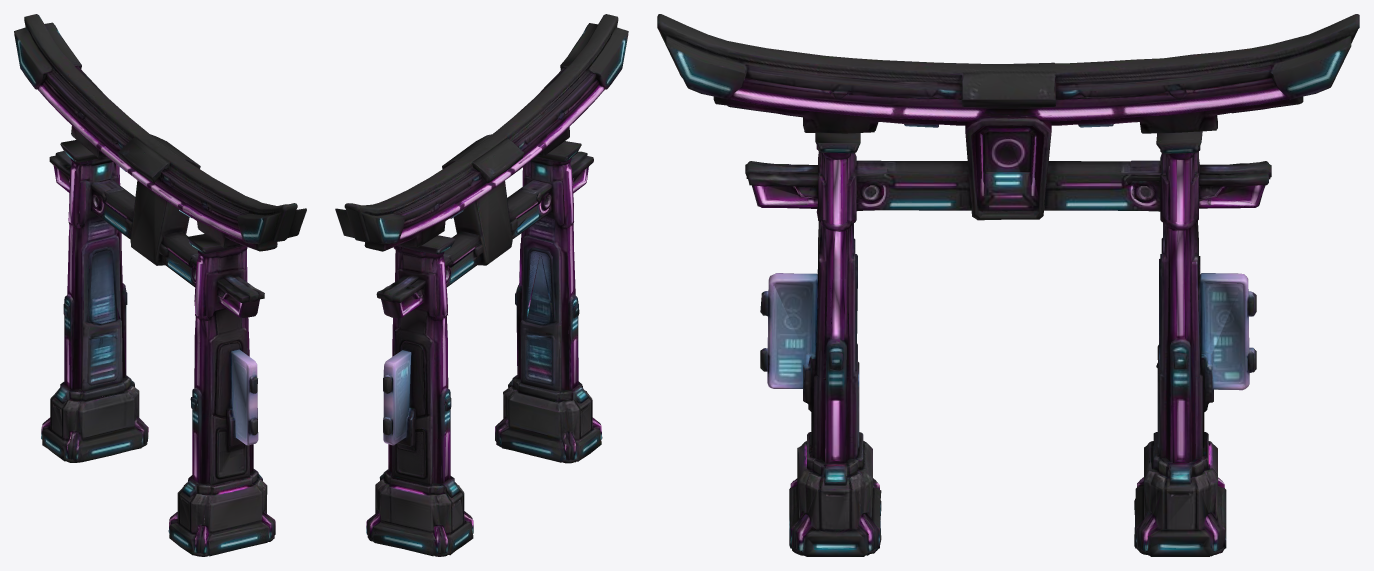
The model's file is toriiGate.glb.
The picture shows the model from 3 angles, left to right: view 1: azimuth 30°, elevation 25°; view 2: azimuth 150°, elevation 25°; view 3: azimuth 270°, elevation 25°; orthographic projection. The views are drawn at different scales.
Visible parts, largest first — view 1: tripo_node_f2ff4b86-48ac-41e3-ad64-498ca858a85a; view 2: tripo_node_f2ff4b86-48ac-41e3-ad64-498ca858a85a; view 3: tripo_node_f2ff4b86-48ac-41e3-ad64-498ca858a85a.
Boxes of the visible parts, box(x1,y1,x2,y2) form: tripo_node_f2ff4b86-48ac-41e3-ad64-498ca858a85a: box(14, 14, 306, 556); tripo_node_f2ff4b86-48ac-41e3-ad64-498ca858a85a: box(335, 14, 628, 556); tripo_node_f2ff4b86-48ac-41e3-ad64-498ca858a85a: box(657, 14, 1359, 556).
Bounding box in the file's own units: 0.1856 × 0.8066 × 0.998.
1 material, 1 textured.
